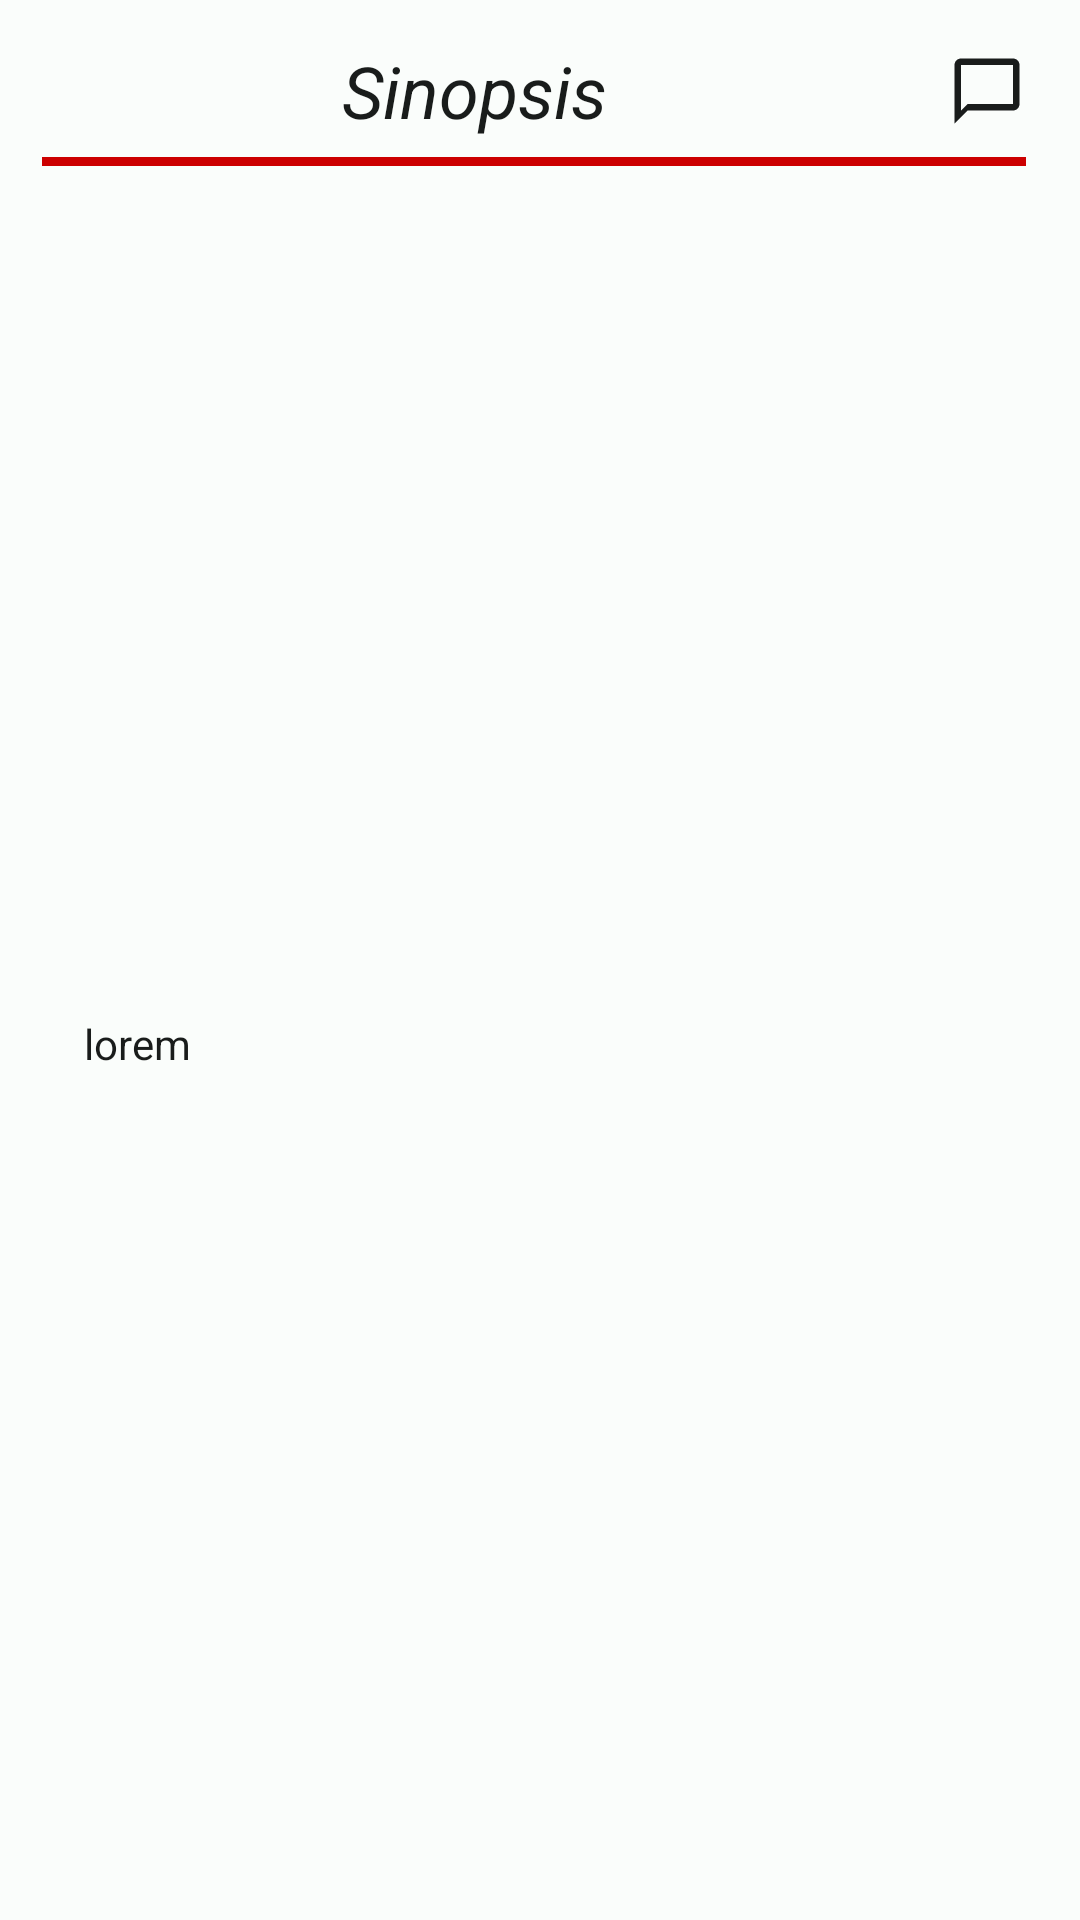

Named icons in this screenshot (1080×1920) and their centers, point (x, y):
chat bubble: point (987, 91)
